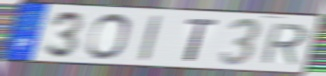3: (219, 17, 264, 68), (46, 10, 87, 60)
I: (137, 14, 164, 64)
O: (85, 12, 132, 61)
R: (259, 22, 310, 66)
T: (183, 16, 220, 63)
